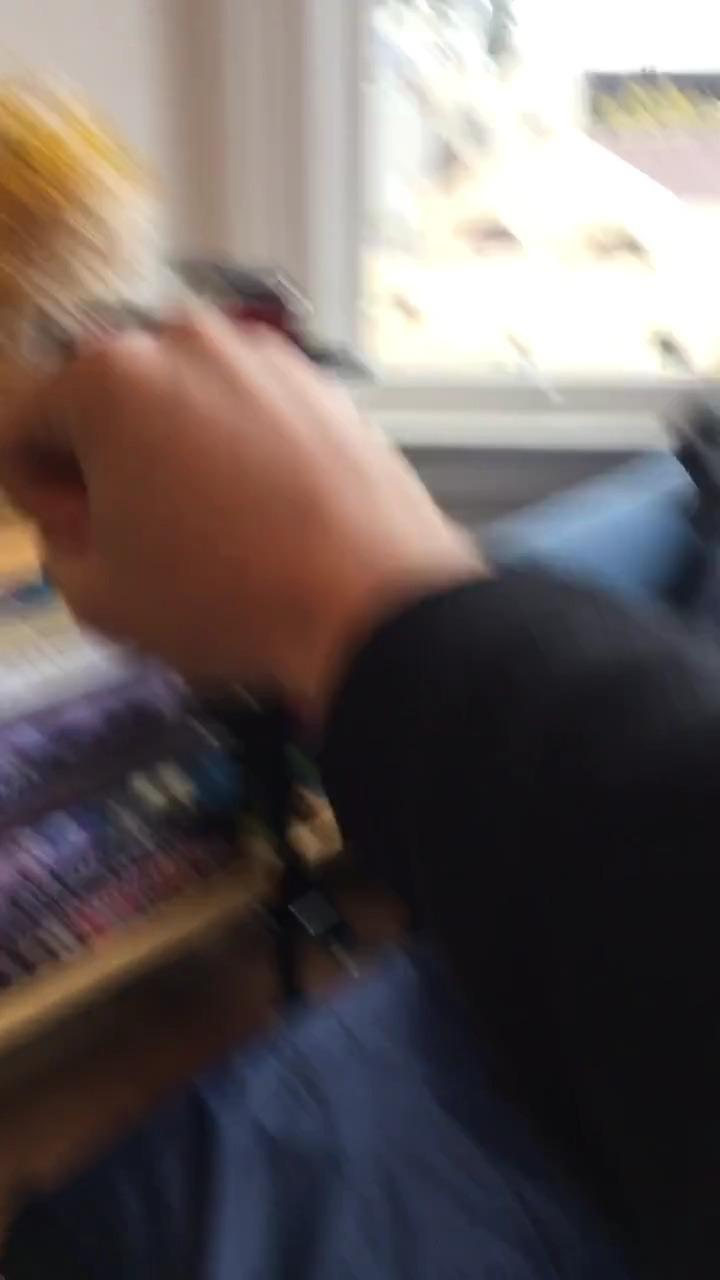Rock: (0, 310, 417, 683)
